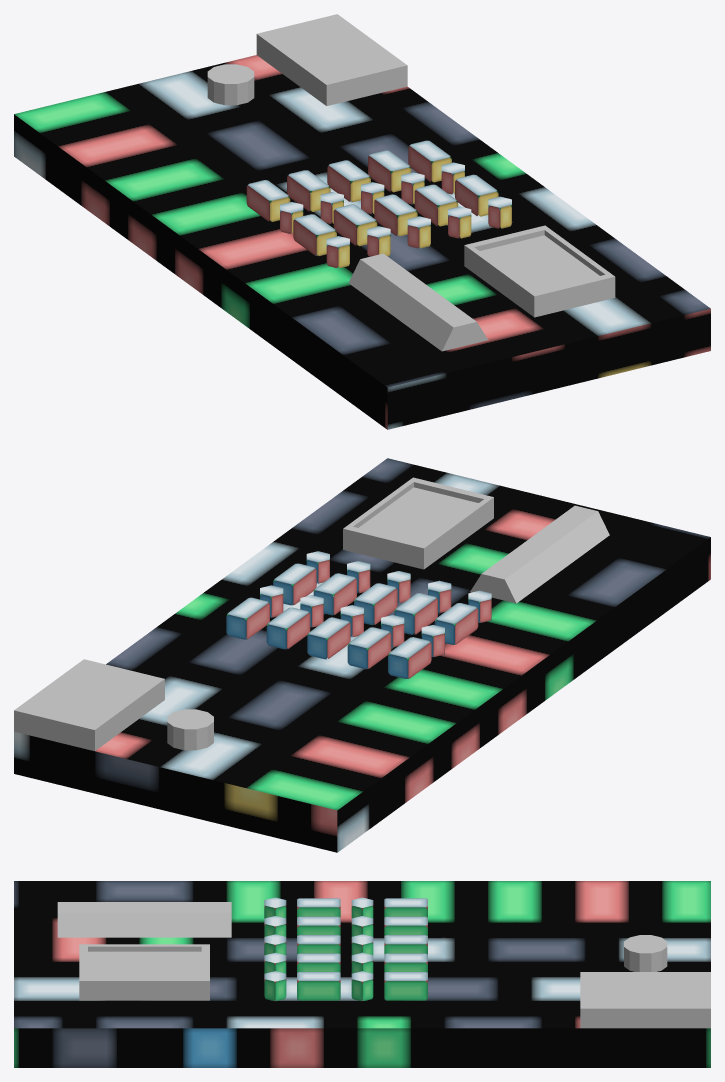
The model's file is Painel e ovo.obj.
3 renders of one model, top to bottom at view 1: azimuth 30°, elevation 25°; view 2: azimuth 150°, elevation 25°; view 3: azimuth 270°, elevation 25°, orthographic. The views are drawn at different scales.
Visible parts, largest first — view 1: Painel, cube, Resolucao, cuboid, Tecla, Idioma, Radial; view 2: Painel, cube, Resolucao, cuboid, Idioma, Tecla, Radial; view 3: Painel, cube, Resolucao, cuboid, Idioma, Tecla, Radial.
Boxes of the visible parts, x1=… form: Painel: x1=14, y1=55, x2=710, y2=429; cube: x1=246, y1=140, x2=498, y2=255; Resolucao: x1=464, y1=225, x2=615, y2=317; cuboid: x1=256, y1=14, x2=407, y2=105; Tecla: x1=280, y1=162, x2=511, y2=267; Idioma: x1=349, y1=253, x2=488, y2=351; Radial: x1=207, y1=64, x2=254, y2=105; Painel: x1=14, y1=458, x2=710, y2=852; cube: x1=226, y1=563, x2=478, y2=678; Resolucao: x1=343, y1=477, x2=493, y2=569; cuboid: x1=14, y1=659, x2=164, y2=751; Idioma: x1=470, y1=505, x2=609, y2=603; Tecla: x1=260, y1=551, x2=491, y2=657; Radial: x1=167, y1=709, x2=213, y2=750; Painel: x1=14, y1=881, x2=710, y2=1067; cube: x1=297, y1=898, x2=427, y2=1000; Resolucao: x1=79, y1=944, x2=209, y2=1000; cuboid: x1=580, y1=972, x2=710, y2=1028; Idioma: x1=57, y1=902, x2=231, y2=937; Tecla: x1=264, y1=897, x2=373, y2=1000; Radial: x1=624, y1=935, x2=667, y2=971.
Size of the model in its own units: 1 by 0.1875 by 2.
3 materials, 2 textured.
